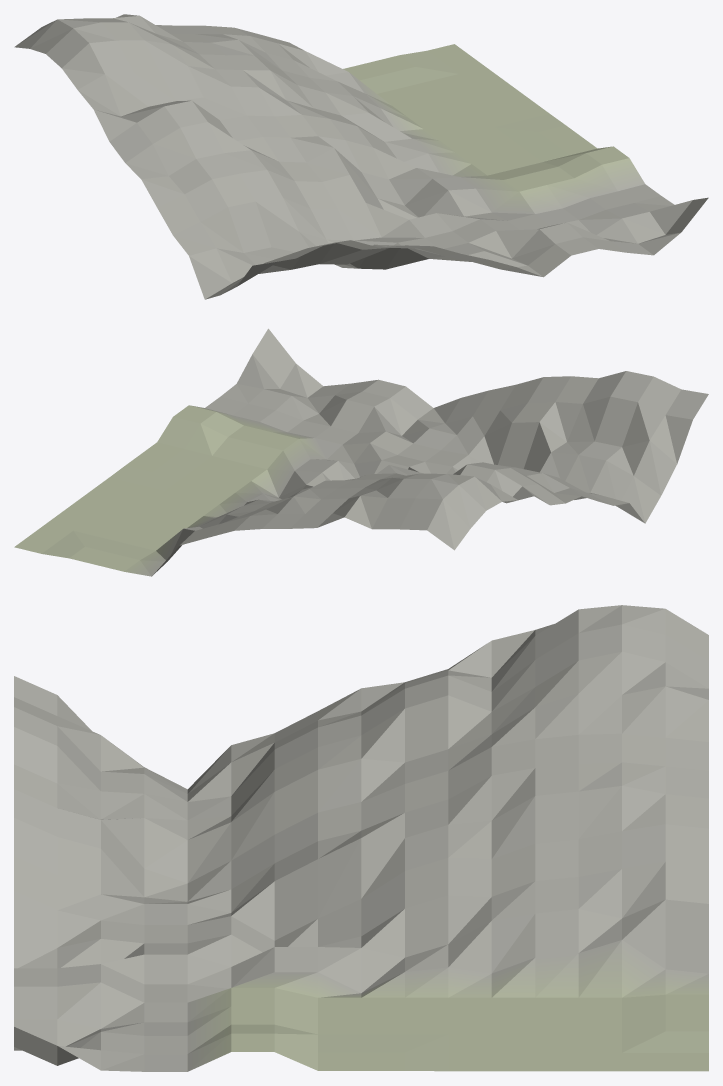
The picture shows the model from 3 angles, top to bottom: view 1: azimuth 30°, elevation 25°; view 2: azimuth 150°, elevation 25°; view 3: azimuth 270°, elevation 25°; orthographic projection. The views are drawn at different scales.
Bounding box in the file's own units: 32 × 10.53 × 32.
